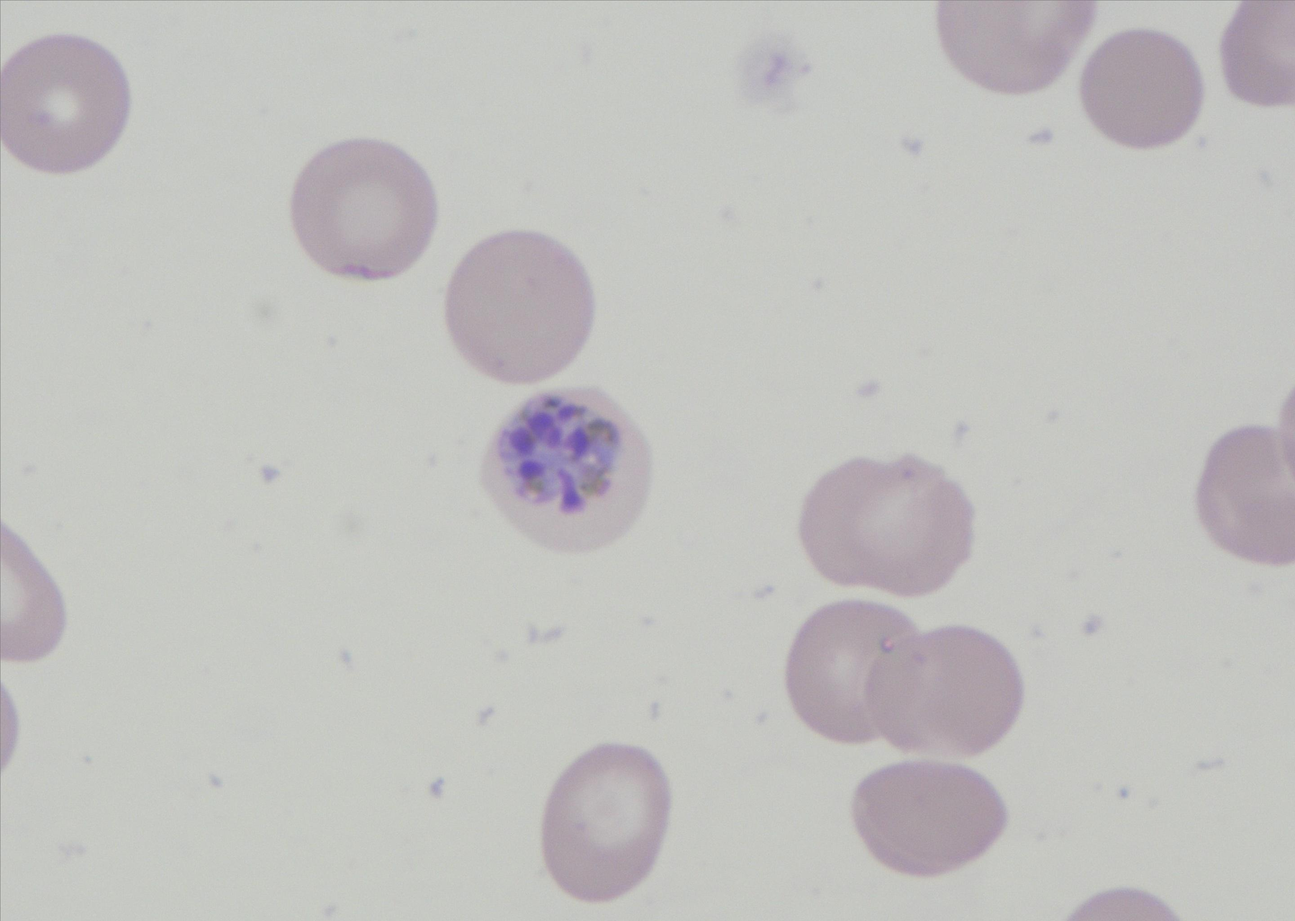Infected: (478, 384, 655, 552)
Uninfected: (799, 450, 975, 596), (444, 228, 589, 379), (865, 628, 1026, 759), (540, 742, 670, 904), (787, 600, 932, 745), (291, 138, 435, 281), (0, 38, 133, 175), (851, 762, 1006, 873), (934, 0, 1090, 95), (1193, 425, 1295, 567), (1085, 32, 1199, 147)
